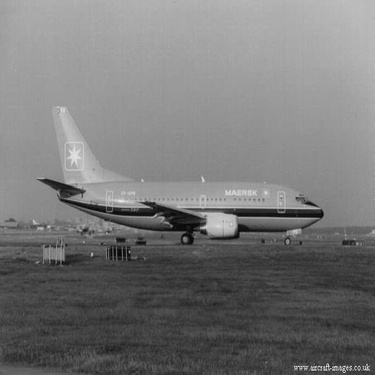airplane: (23, 93, 331, 255)
